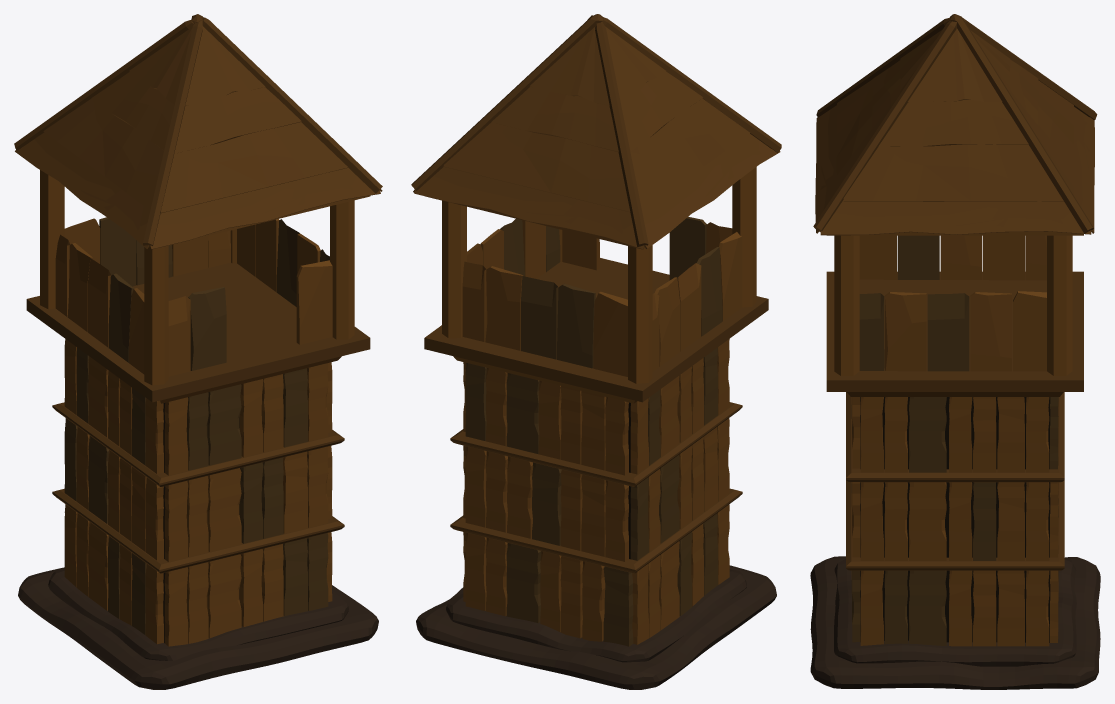
File: Wood_Tower_3_Color_2.fbx
3 views of the same model, side by side, from view 1: azimuth 30°, elevation 25°; view 2: azimuth 150°, elevation 25°; view 3: azimuth 270°, elevation 25° (orthographic). The views are drawn at different scales.
Parts seen in each view (by area): view 1: Cube.552, Cube.461, Cube.582, Cube.583, Cube.578, Cube.462, Cube.579, Cube.581, Cylinder.350, Cylinder.351, Cube.577, Cube.550 (+66 smaller); view 2: Cube.461, Cube.552, Cube.574, Cube.575, Cube.578, Cube.462, Cube.579, Cube.566, Cylinder.348, Cube.577, Cube.493, Cube.550 (+66 smaller); view 3: Cube.461, Cube.586, Cube.552, Cube.587, Cube.462, Cube.585, Cylinder.349, Cylinder.351, Cube.463, Cube.584, Cube.550, Cube.561 (+51 smaller).
Boxes of the visible parts, left/top/right/bottom form: Cube.552: left=26, top=262, right=370, bottom=402; Cube.461: left=18, top=567, right=378, bottom=689; Cube.582: left=160, top=92, right=348, bottom=213; Cube.583: left=150, top=168, right=380, bottom=249; Cube.578: left=43, top=91, right=163, bottom=210; Cube.462: left=48, top=569, right=348, bottom=660; Cube.579: left=15, top=132, right=150, bottom=248; Cube.581: left=174, top=23, right=301, bottom=153; Cylinder.350: left=144, top=245, right=168, bottom=385; Cylinder.351: left=330, top=200, right=354, bottom=339; Cube.577: left=91, top=72, right=174, bottom=150; Cube.550: left=52, top=402, right=344, bottom=486; Cube.461: left=416, top=565, right=776, bottom=689; Cube.552: left=424, top=258, right=768, bottom=402; Cube.574: left=443, top=96, right=630, bottom=211; Cube.575: left=414, top=167, right=644, bottom=249; Cube.578: left=630, top=82, right=749, bottom=211; Cube.462: left=446, top=569, right=746, bottom=662; Cube.579: left=642, top=133, right=780, bottom=248; Cube.566: left=491, top=86, right=618, bottom=151; Cylinder.348: left=628, top=245, right=652, bottom=383; Cube.577: left=595, top=25, right=702, bottom=151; Cube.493: left=450, top=488, right=742, bottom=573; Cube.550: left=450, top=402, right=742, bottom=486; Cube.461: left=810, top=556, right=1100, bottom=689; Cube.586: left=843, top=99, right=1063, bottom=201; Cube.552: left=826, top=271, right=1083, bottom=391; Cube.587: left=820, top=200, right=1091, bottom=235; Cube.462: left=834, top=559, right=1076, bottom=666; Cube.585: left=879, top=100, right=1028, bottom=146; Cylinder.349: left=1047, top=235, right=1072, bottom=375; Cylinder.351: left=834, top=235, right=859, bottom=375; Cube.463: left=860, top=397, right=1050, bottom=642; Cube.584: left=908, top=28, right=1002, bottom=102; Cube.550: left=846, top=392, right=1064, bottom=482; Cube.561: left=927, top=293, right=969, bottom=371.
Bounding box in the file's own units: 516 × 1209 × 515.
